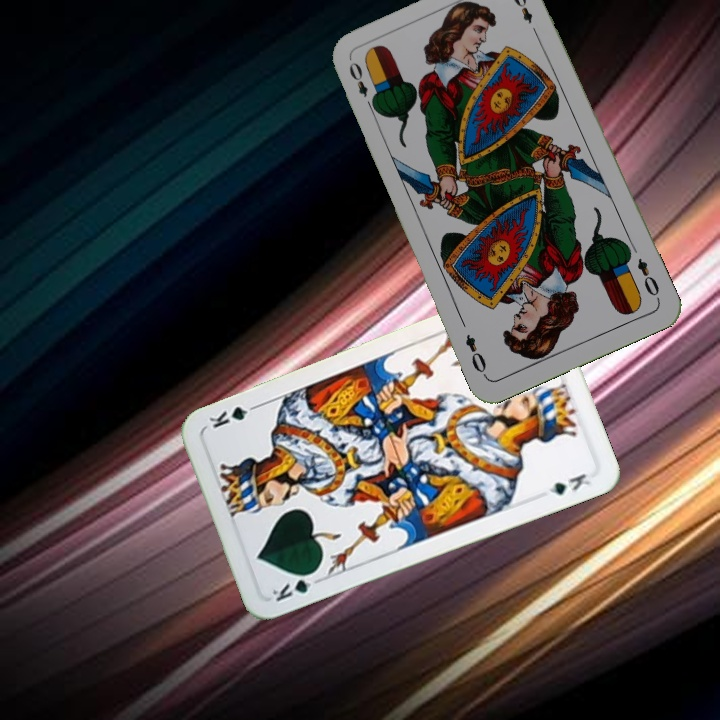EO: (345, 57, 378, 113), (633, 254, 663, 303)
GK: (267, 567, 324, 605)
